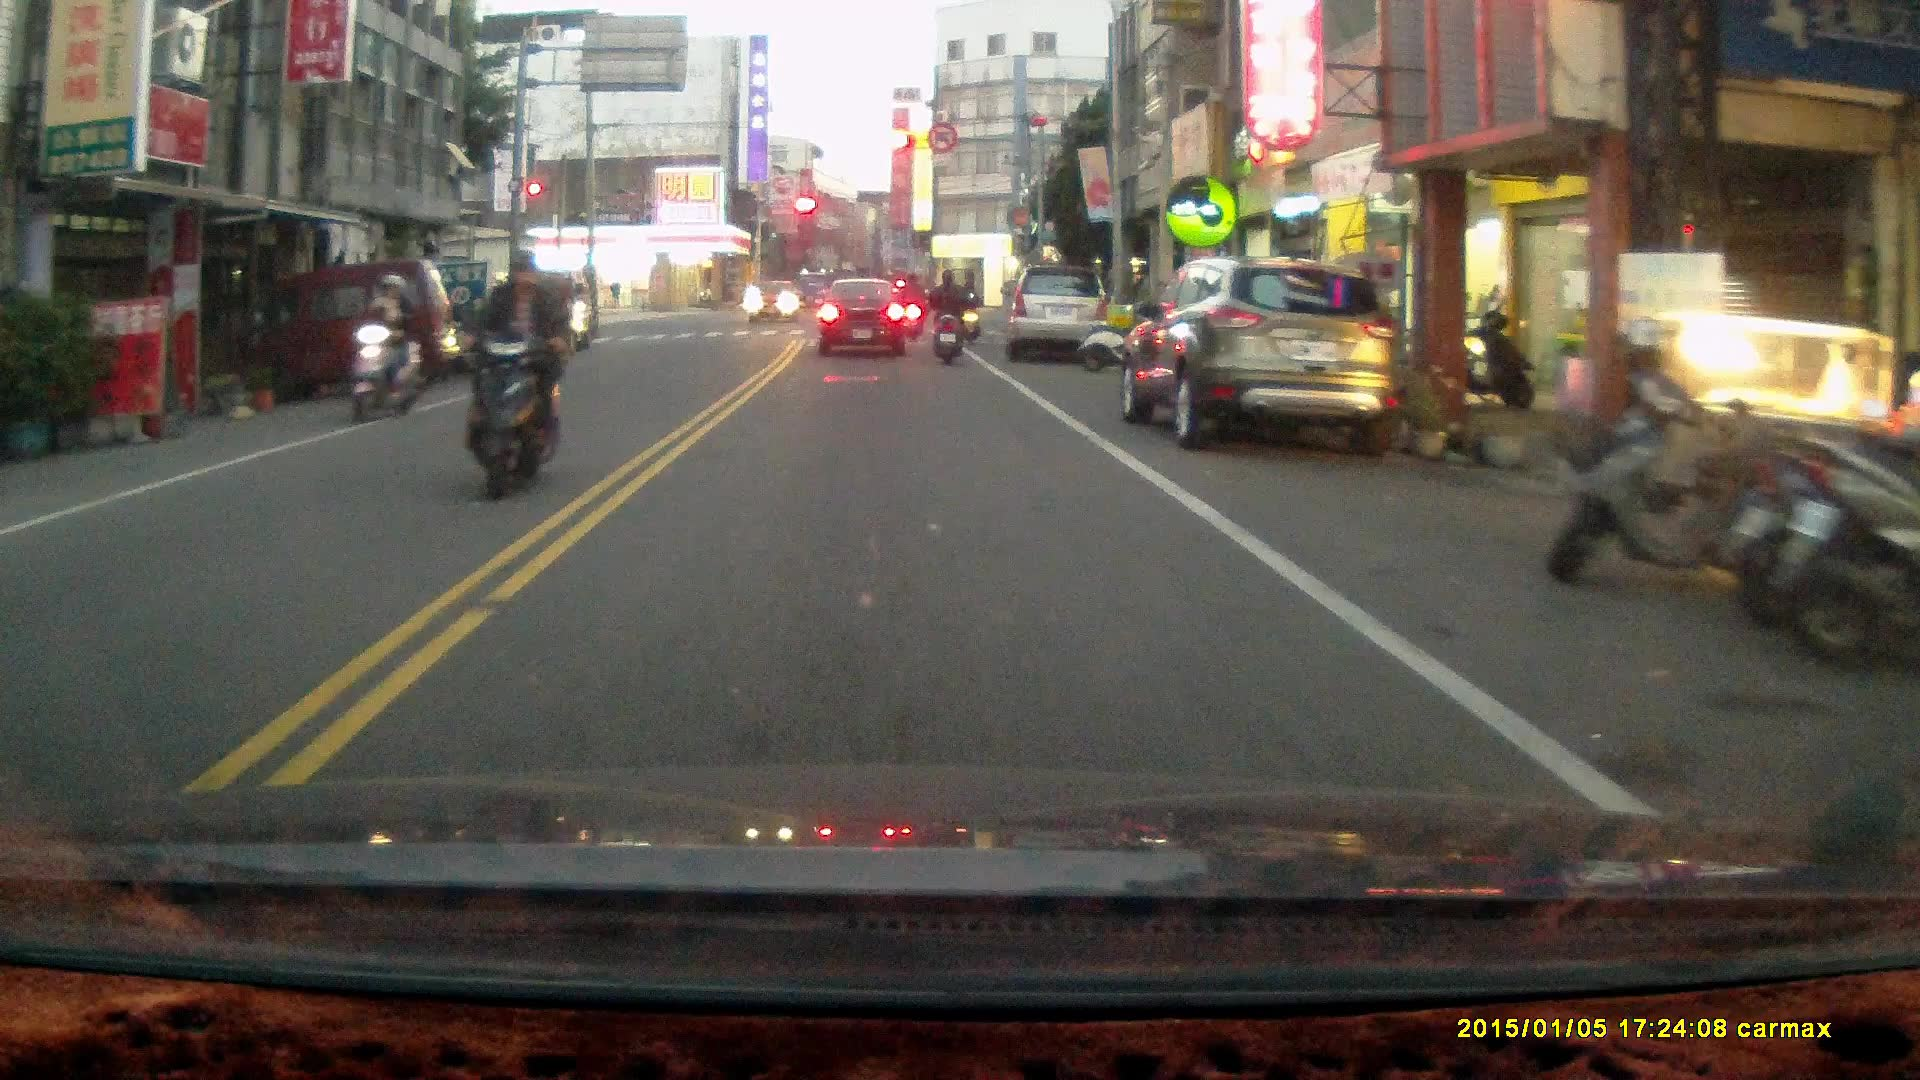rider: (436, 245, 573, 502), (344, 273, 426, 425), (921, 266, 967, 366), (896, 267, 926, 337), (956, 274, 982, 347)
vehicle: (1126, 258, 1397, 458), (234, 259, 461, 405), (1008, 270, 1112, 367), (818, 280, 911, 356), (741, 273, 800, 326)
